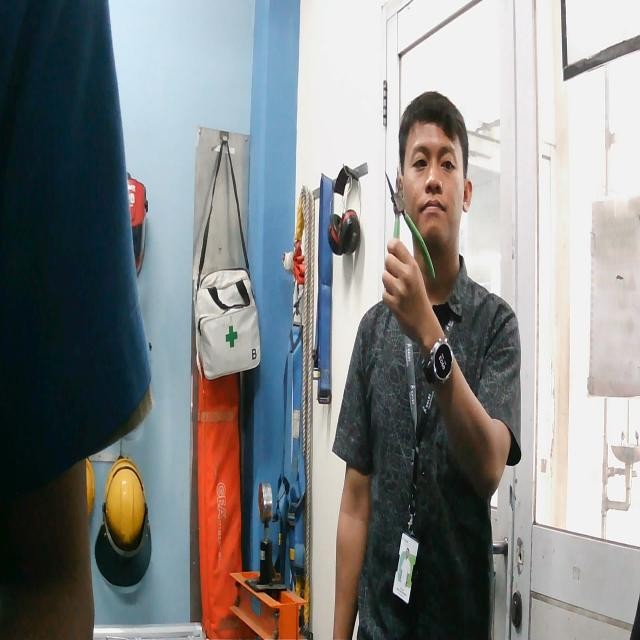tang_scun_hidrolik: (380, 164, 439, 300)
